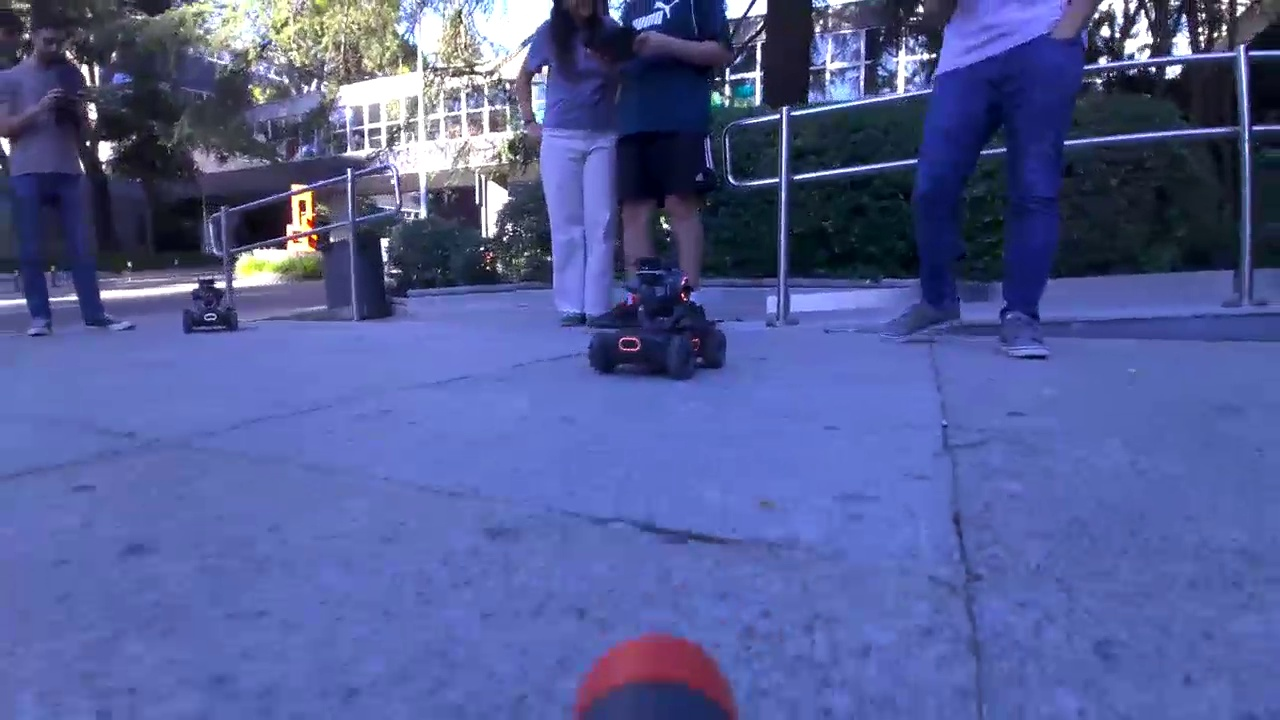robot: (588, 256, 729, 382), (181, 278, 239, 334)
